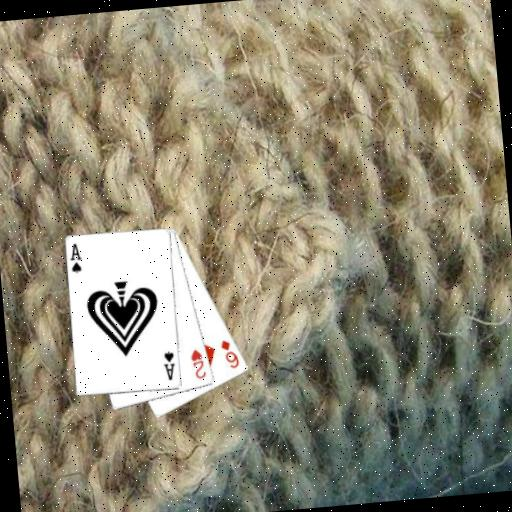2H: (188, 346, 209, 381)
6D: (218, 336, 242, 371)
AS: (159, 348, 178, 383), (66, 241, 84, 276)
